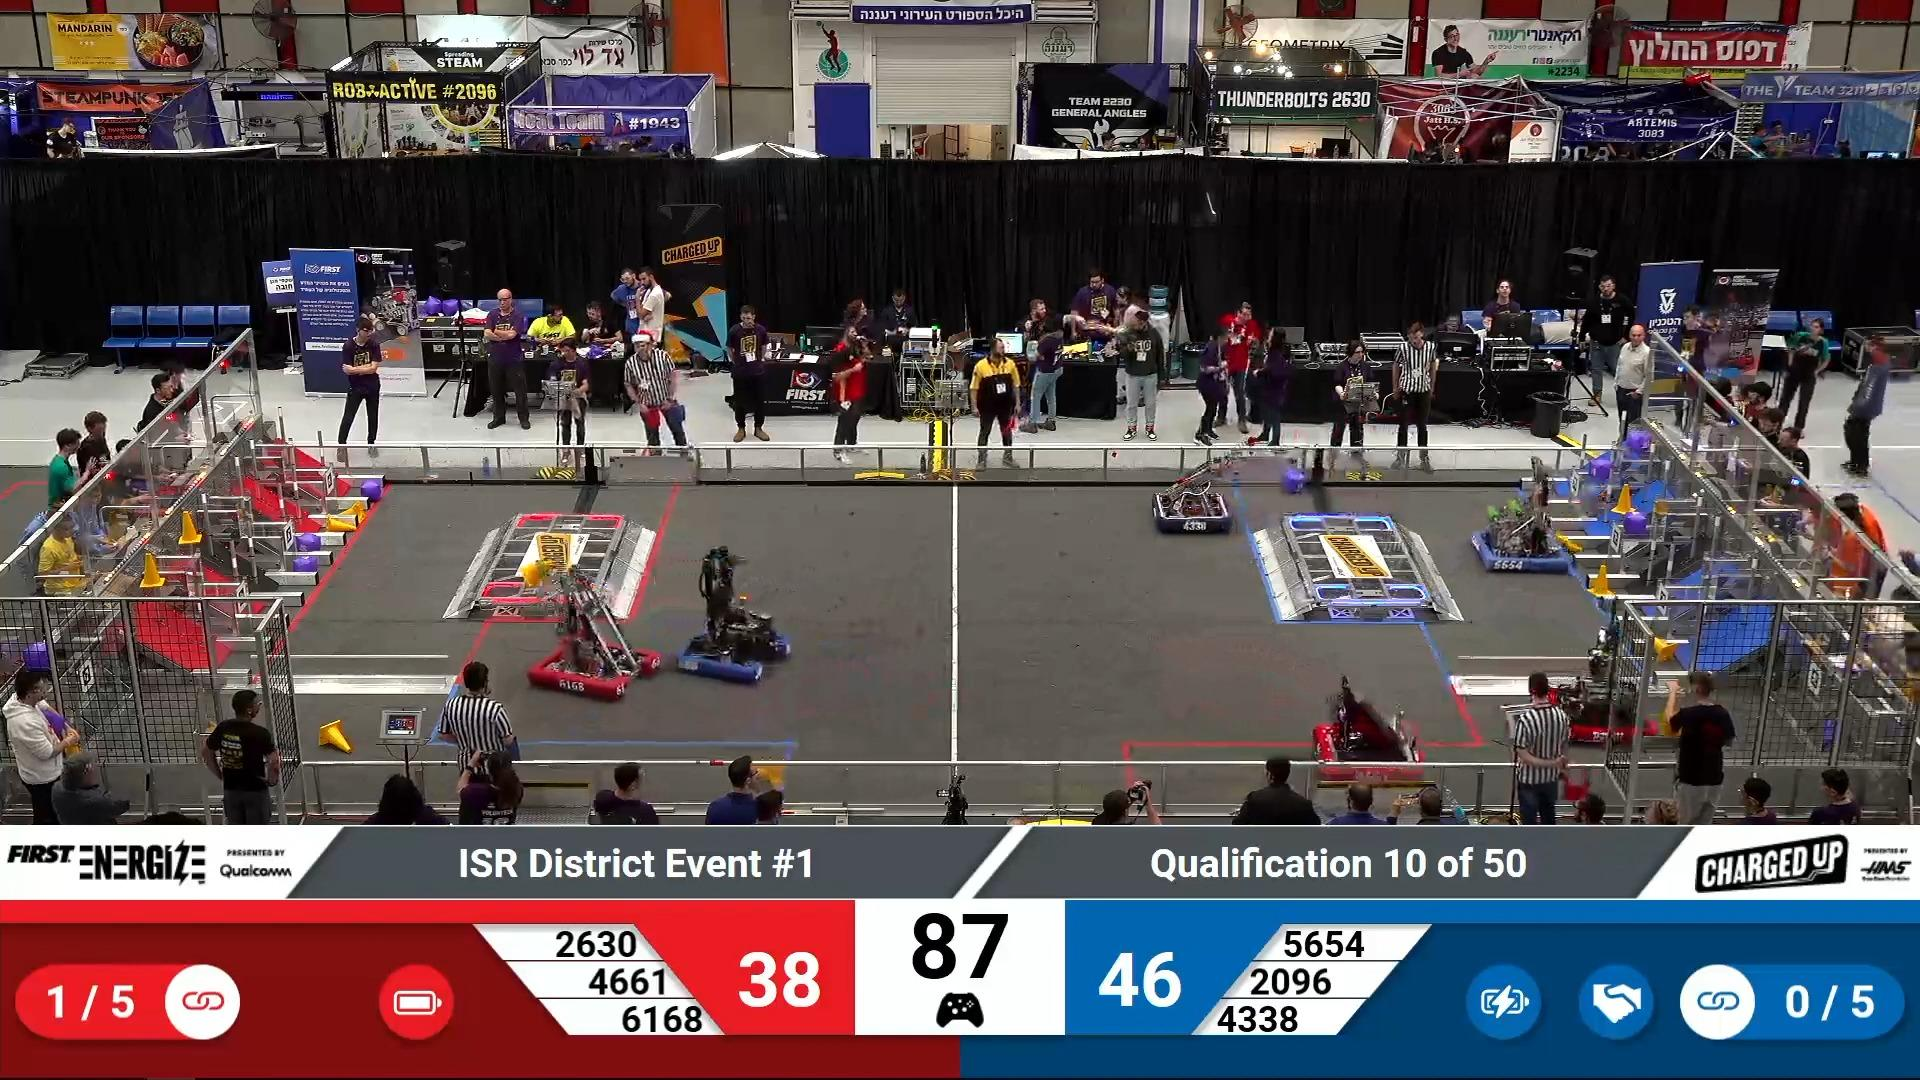robot: (669, 587, 793, 692), (526, 612, 667, 704), (1308, 705, 1432, 789), (1549, 667, 1655, 753), (1460, 508, 1576, 578), (1149, 467, 1238, 542)
